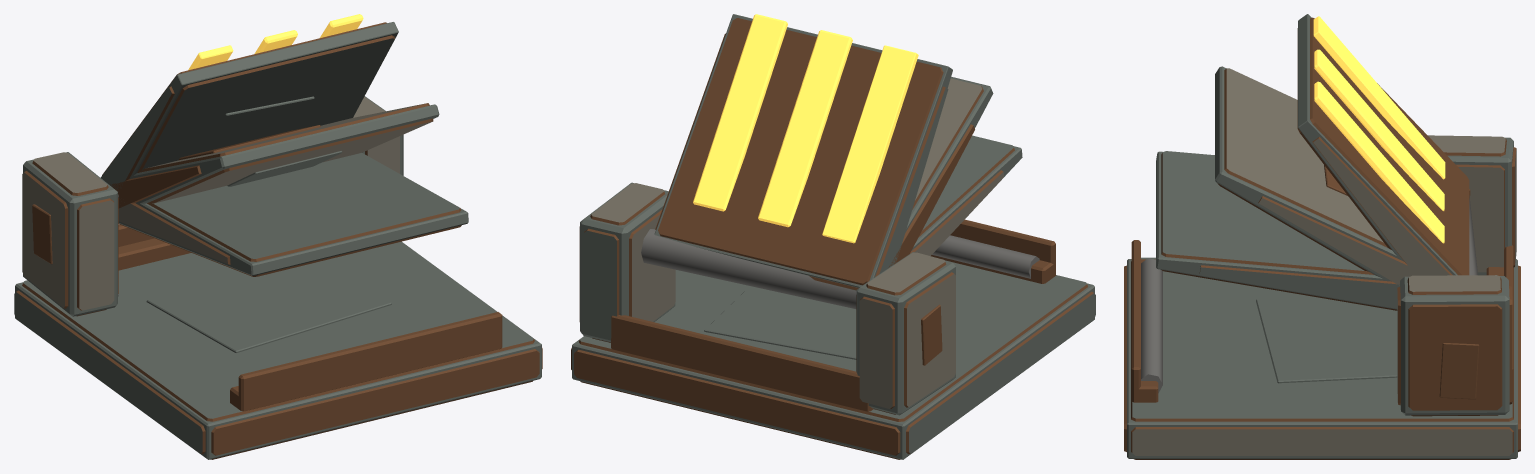
File: R4X_RampDeployer.fbx
3 renders of one model, left to right at view 1: azimuth 30°, elevation 25°; view 2: azimuth 150°, elevation 25°; view 3: azimuth 270°, elevation 25°, orthographic.
Visible parts, largest first — view 1: R4X_RampDeployer_Body; view 2: R4X_RampDeployer_Body; view 3: R4X_RampDeployer_Body.
Part boxes in pixels (x1,y1,x2,y2): R4X_RampDeployer_Body: (14, 14, 542, 459); R4X_RampDeployer_Body: (571, 14, 1095, 459); R4X_RampDeployer_Body: (1124, 14, 1520, 459).
Size of the model in its own units: 0.52 by 0.4678 by 0.52.
